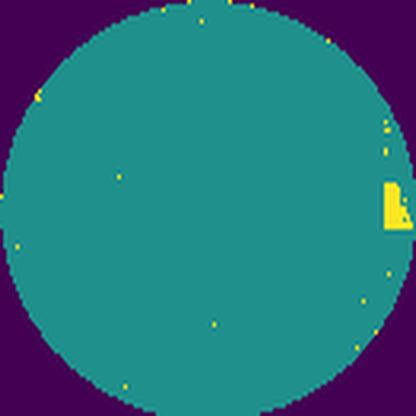Loc: (382, 180, 412, 230)
